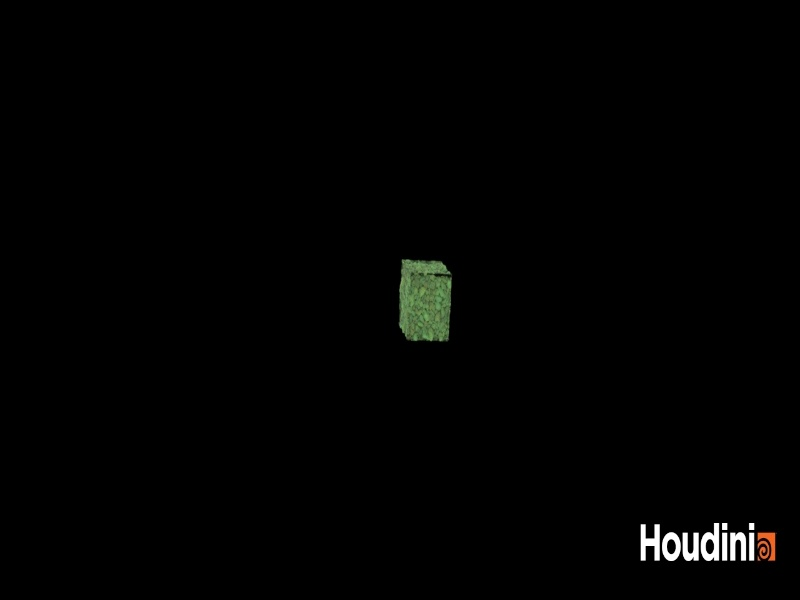waste: (392, 249, 462, 351)
